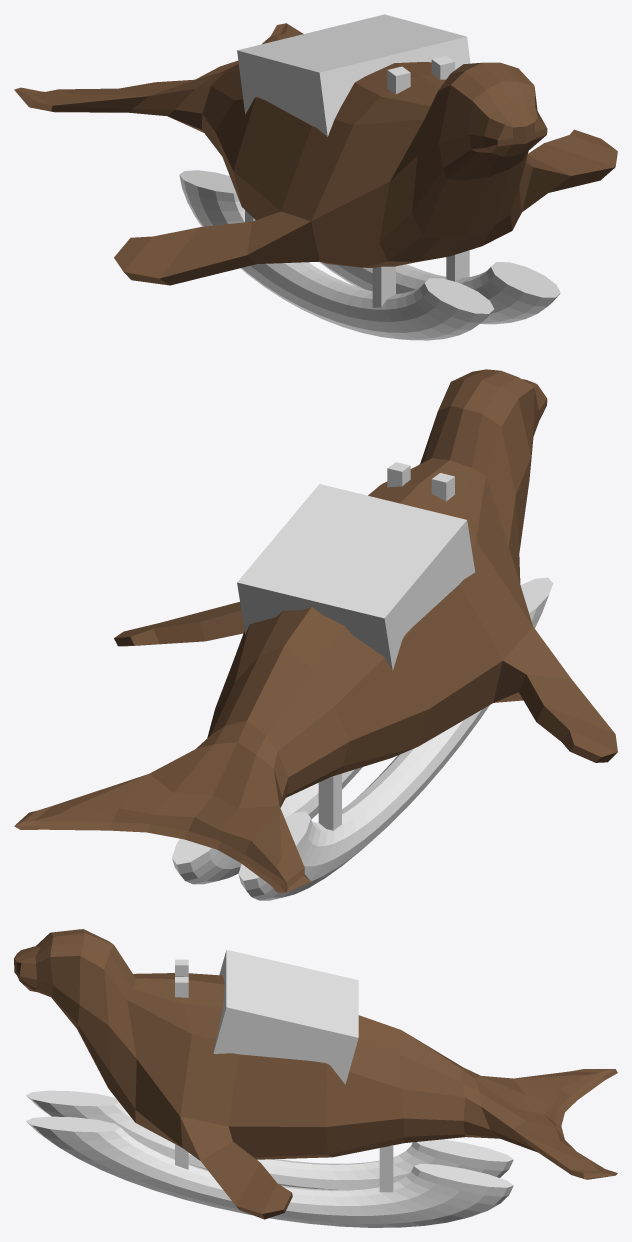
The model's file is Seal_game.fbx.
The picture shows the model from 3 angles, top to bottom: view 1: azimuth 30°, elevation 25°; view 2: azimuth 150°, elevation 25°; view 3: azimuth 270°, elevation 25°; orthographic projection. The views are drawn at different scales.
Visible parts, largest first — view 1: Seal, ring 1, sadle, ring 2, handle; view 2: Seal, sadle, ring 1, ring 2, handle; view 3: Seal, ring 2, sadle, ring 1, handle.
Part boxes in pixels (x1,y1,x2,y2): Seal: [14, 23, 617, 285]; ring 1: [179, 170, 494, 340]; sadle: [237, 14, 470, 136]; ring 2: [319, 250, 560, 324]; handle: [387, 55, 454, 94]; Seal: [14, 369, 617, 892]; sadle: [237, 484, 475, 670]; ring 1: [238, 577, 553, 900]; ring 2: [172, 767, 362, 884]; handle: [387, 462, 454, 501]; Seal: [14, 929, 617, 1219]; ring 2: [26, 1116, 513, 1227]; sadle: [213, 949, 358, 1084]; ring 1: [26, 1090, 513, 1189]; handle: [175, 959, 188, 997].
Bounding box in the file's own units: 67.02 × 45.16 × 88.53.
